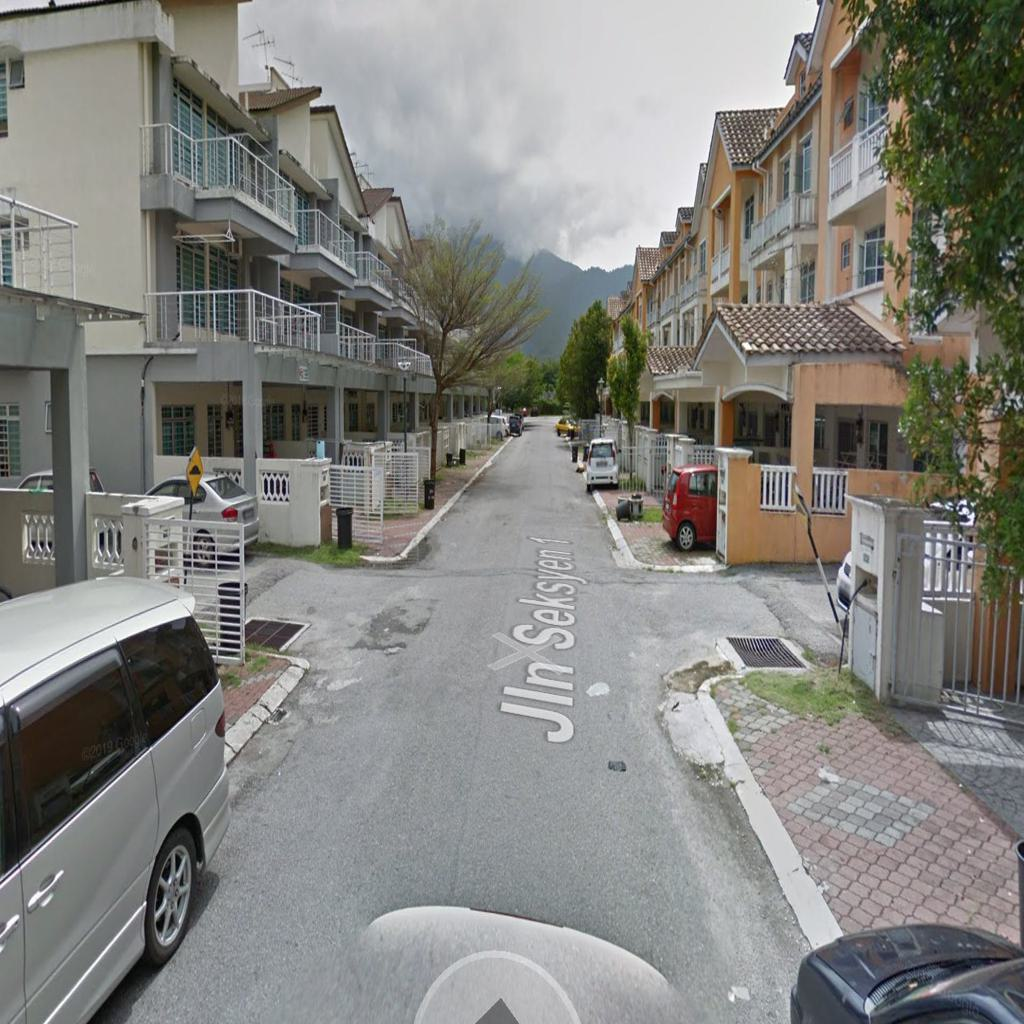Junction: (197, 521, 450, 713), (598, 541, 855, 725)
